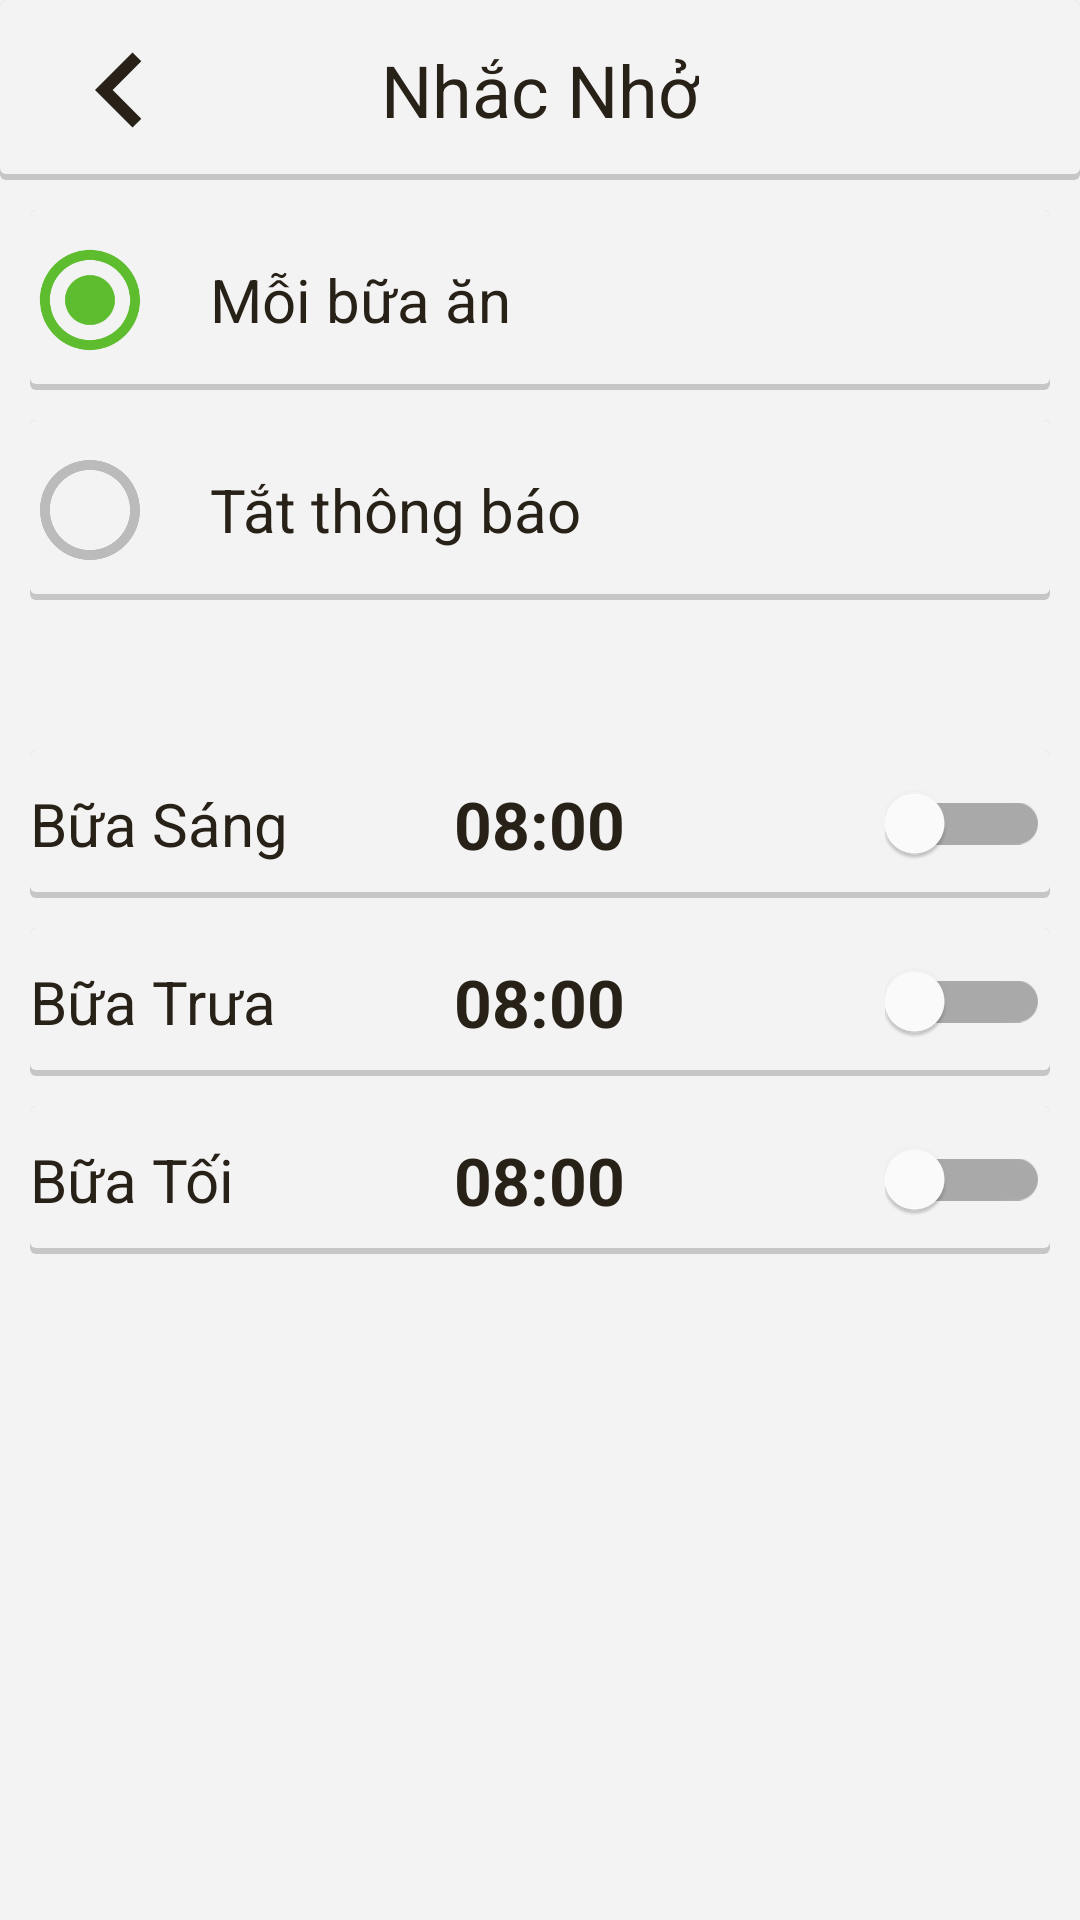

Point at icon controls on the screen. Image size 1080*1920, points as (x,y).
keyboard arrow left: (118,90)
radio checked: (89,300)
radio unchecked: (90,510)
